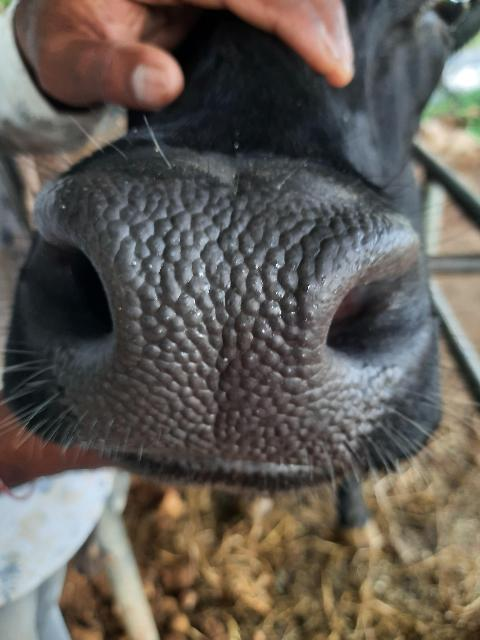Muzzle: (61, 184, 378, 468)
